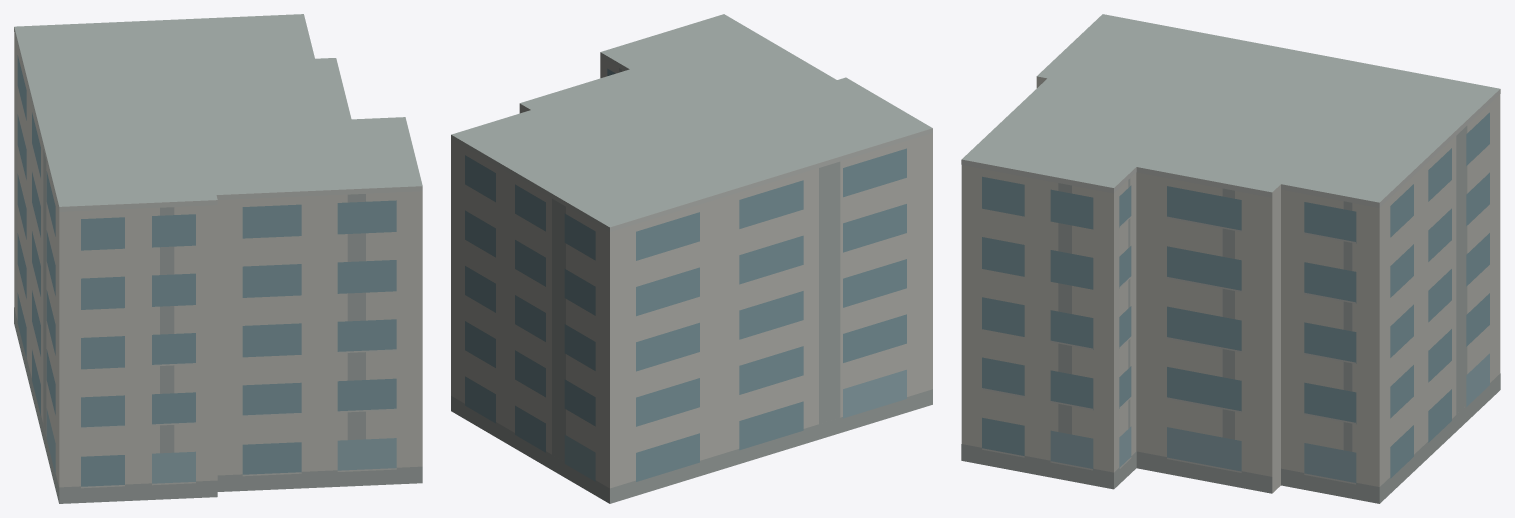
The model's file is survey-upis-32778260.glb.
3 renders of one model, left to right at view 1: azimuth 30°, elevation 25°; view 2: azimuth 150°, elevation 25°; view 3: azimuth 270°, elevation 25°, orthographic. The views are drawn at different scales.
Parts seen in each view (by area): view 1: survey-upis-32778260.tmp; view 2: survey-upis-32778260.tmp; view 3: survey-upis-32778260.tmp.
Part boxes in pixels (x1,y1,x2,y2): survey-upis-32778260.tmp: (14,14,422,503); survey-upis-32778260.tmp: (451,14,932,503); survey-upis-32778260.tmp: (961,14,1500,503).
Bounding box in the file's own units: 18.68 × 13.9 × 22.55.
